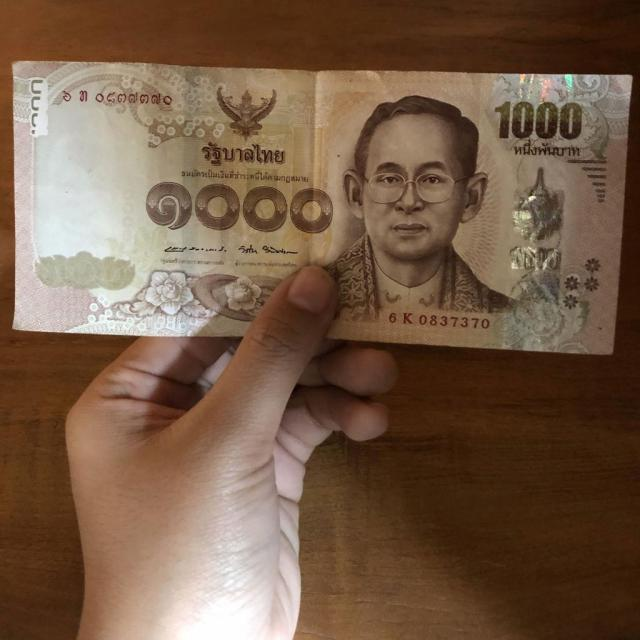THAI1000: (11, 61, 632, 358)
